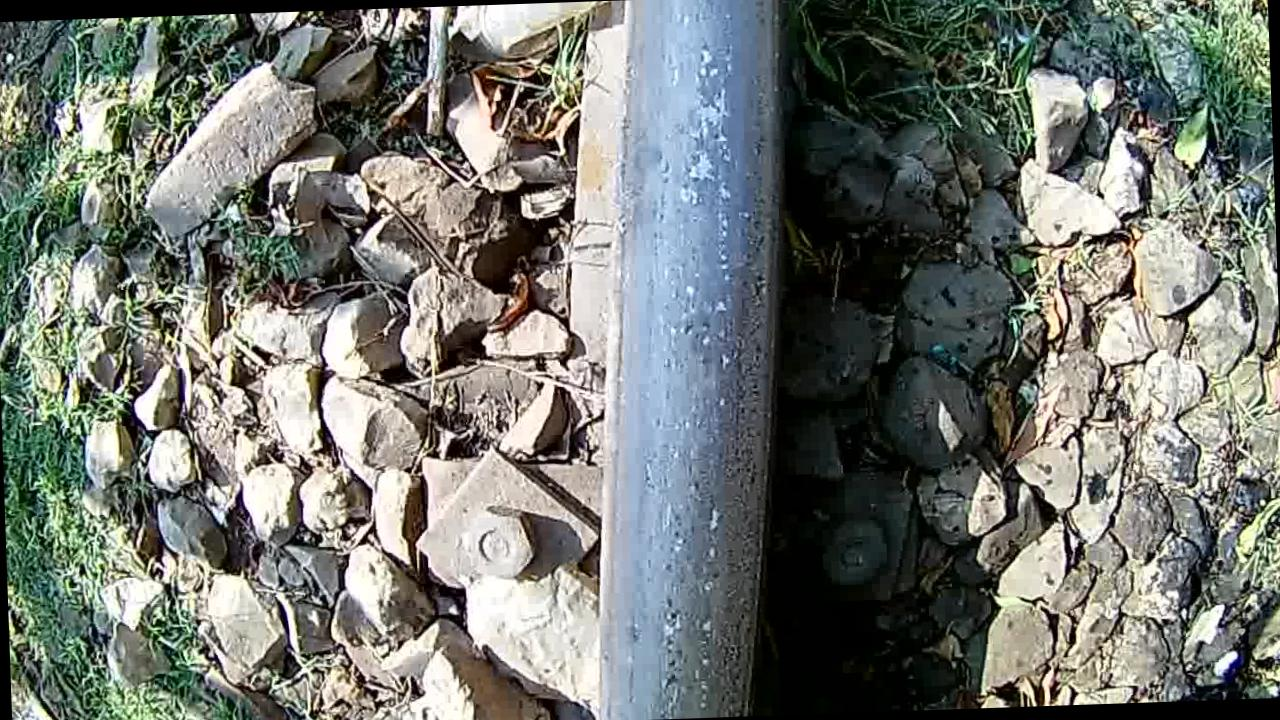clip_missing: (588, 0, 805, 720)
